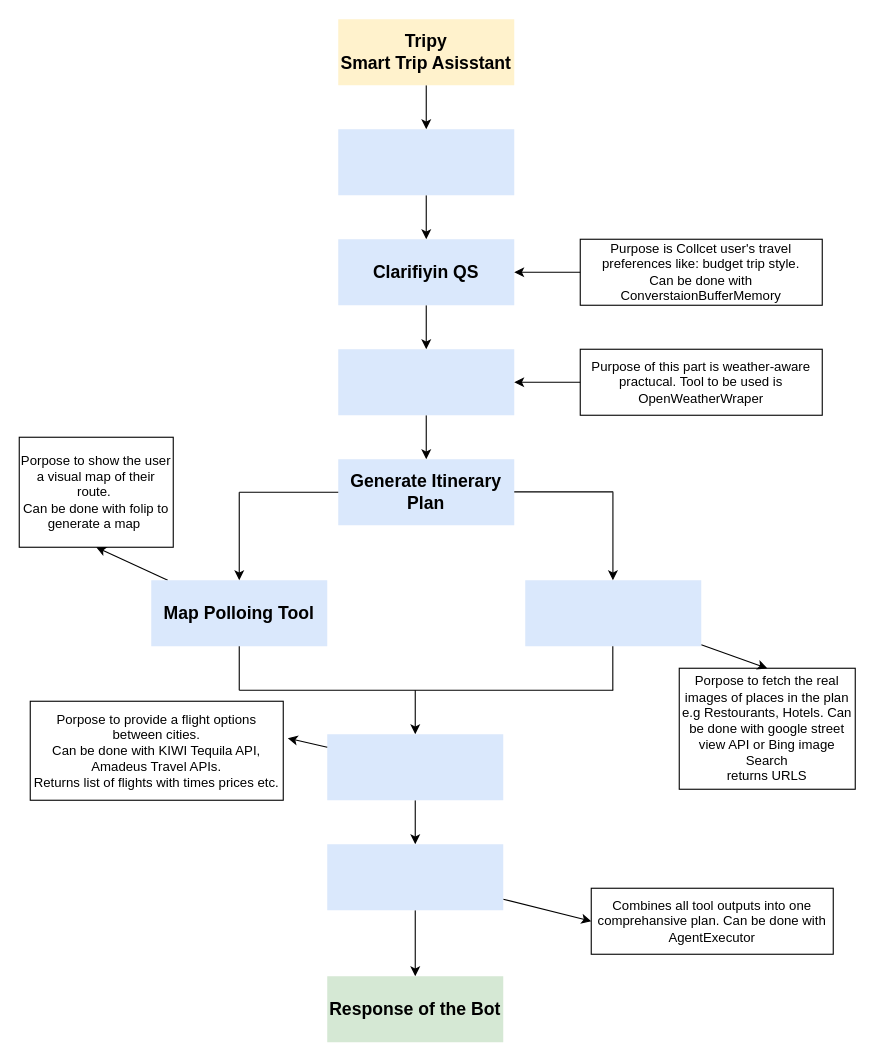
Some shapes in this 875 by 1060 pixel diagram are drawn without their labels. Here are the shapes that lost their labels. From the top down, the centre of each, then its label:
At (x=426, y=162): "User Input".
At (x=426, y=382): "Weather Tool".
At (x=613, y=613): "Image & Street View".
At (x=415, y=767): "Flight Details".
At (x=415, y=877): "Final Travel Plan".
